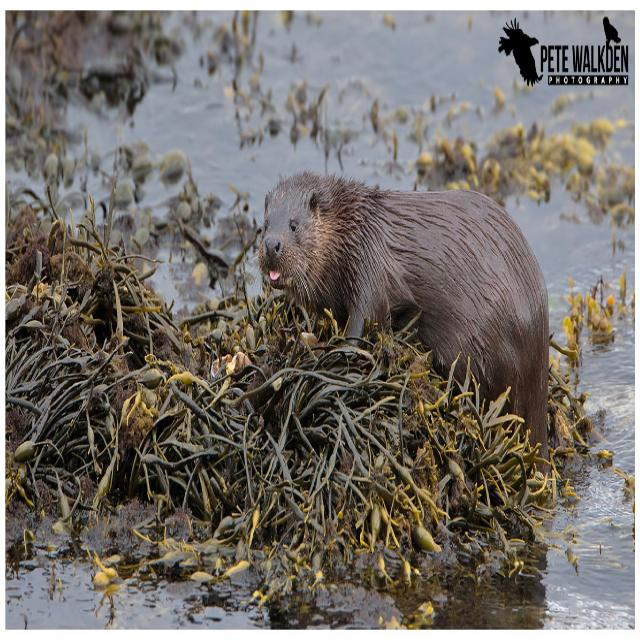otter: (259, 174, 549, 388)
